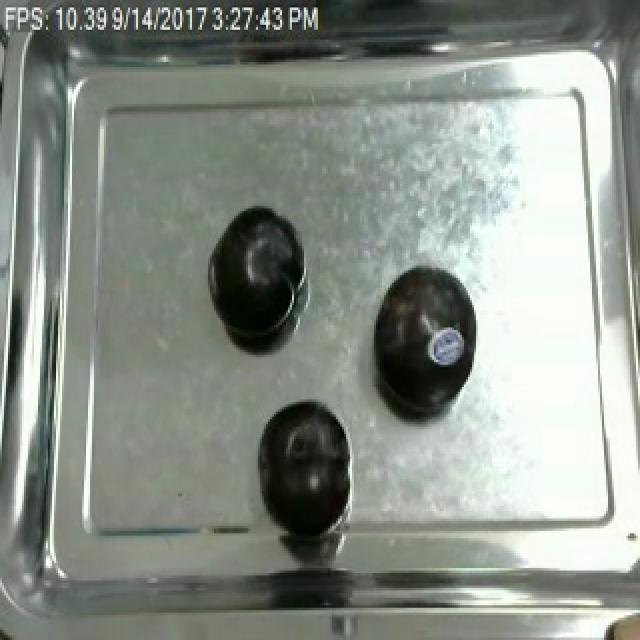Fruit: (366, 258, 484, 419), (206, 201, 304, 345), (254, 397, 354, 538), (594, 605, 640, 640)
